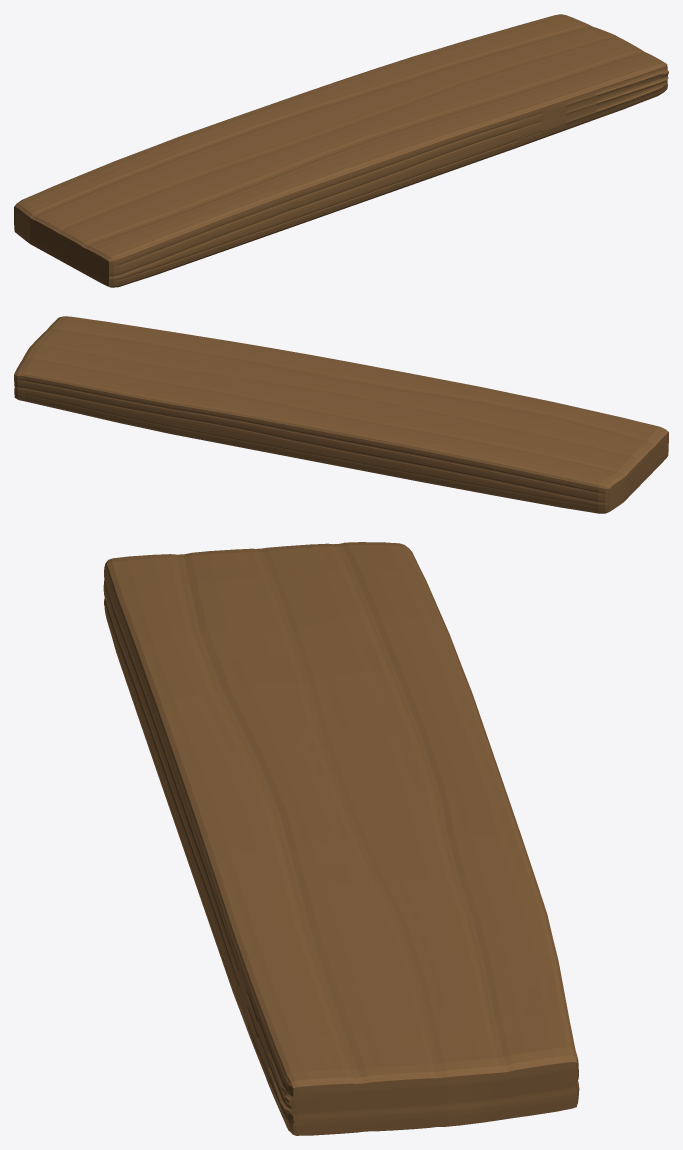
The picture shows the model from 3 angles, top to bottom: view 1: azimuth 30°, elevation 25°; view 2: azimuth 150°, elevation 25°; view 3: azimuth 270°, elevation 25°; orthographic projection. The views are drawn at different scales.
Parts seen in each view (by area): view 1: plank thin; view 2: plank thin; view 3: plank thin.
Part boxes in pixels (left/top/right/bottom): plank thin: left=14, top=14, right=668, bottom=287; plank thin: left=14, top=316, right=668, bottom=513; plank thin: left=103, top=542, right=579, bottom=1135.
Size of the model in its own units: 5418 by 389 by 1929.
